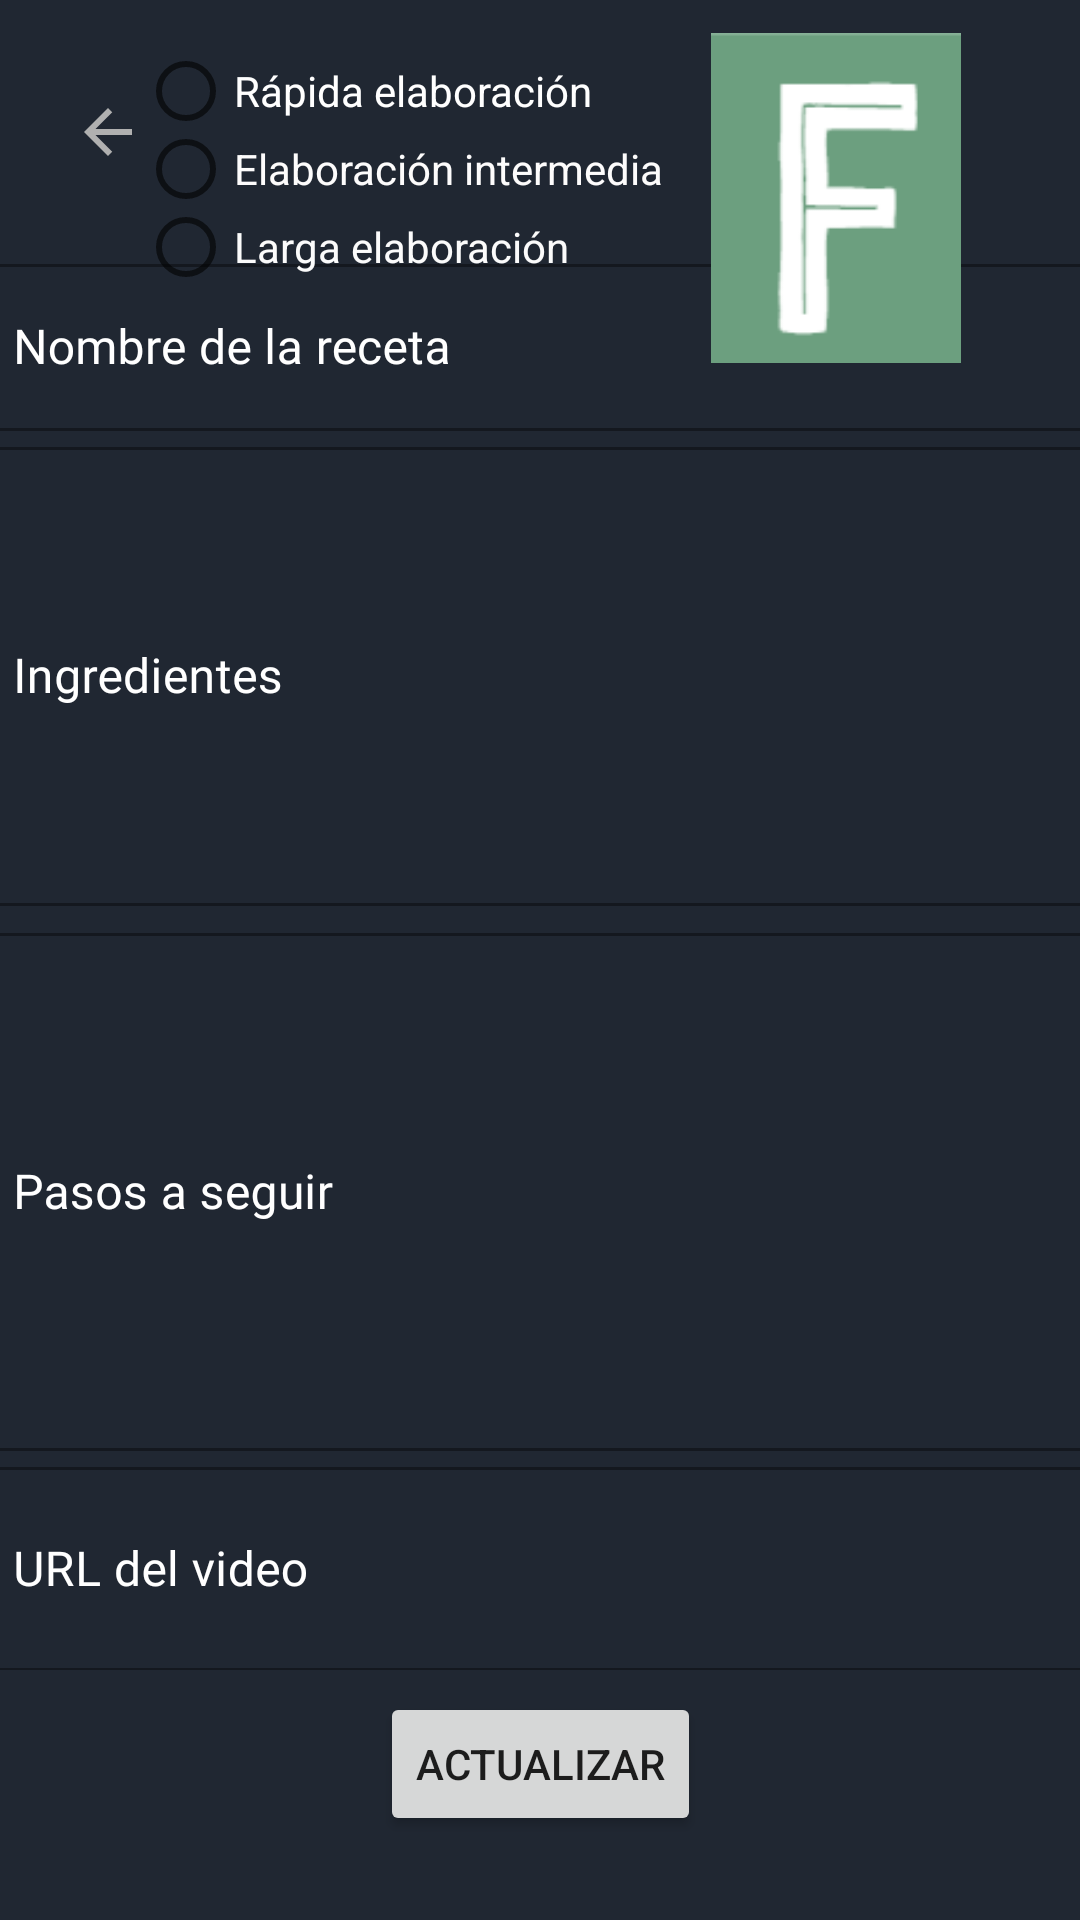

Screen size 1080×1920. Icon name, then its center in pixels as (x=x, y=y):
arrow back: (x=108, y=132)
